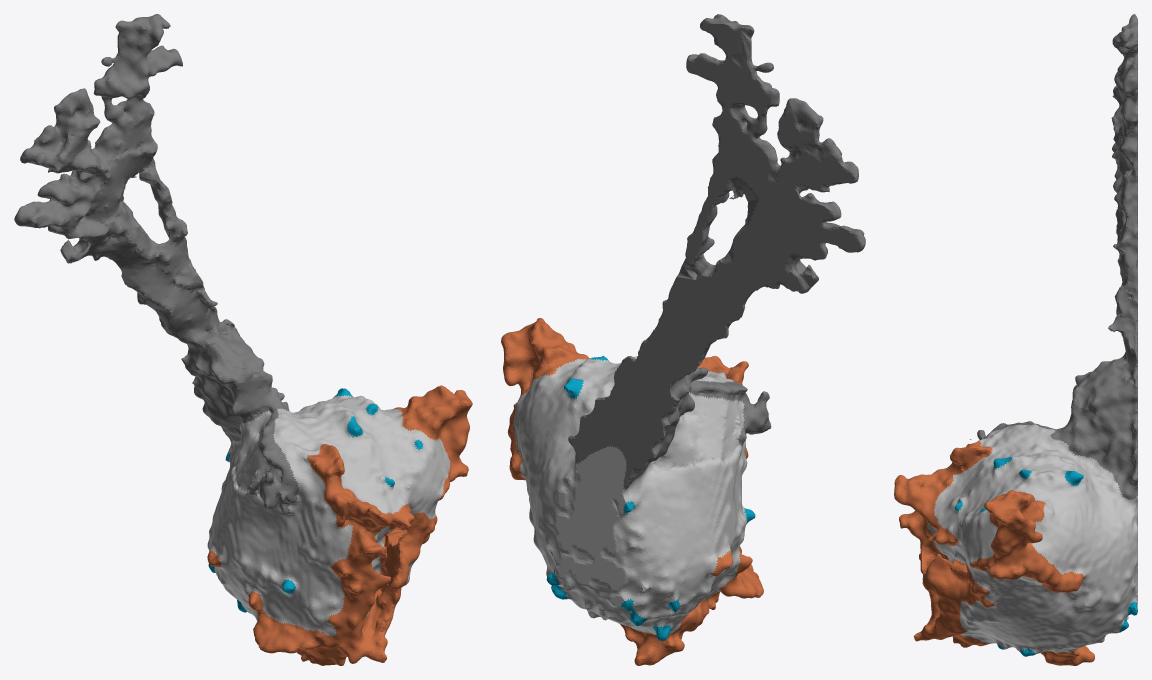
3 views of the same model, side by side, from view 1: azimuth 30°, elevation 25°; view 2: azimuth 150°, elevation 25°; view 3: azimuth 270°, elevation 25° (orthographic). The views are drawn at different scales.
Bounding box in the file's own units: 177 × 274 × 102.
